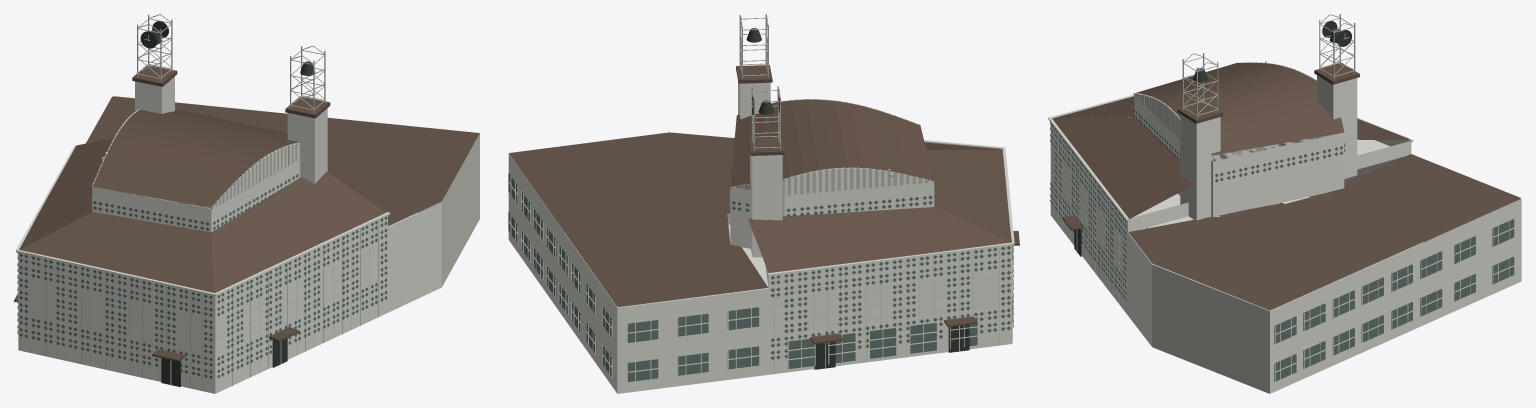
The model's file is podium-mozaiek.glb.
The picture shows the model from 3 angles, left to right: view 1: azimuth 30°, elevation 25°; view 2: azimuth 150°, elevation 25°; view 3: azimuth 270°, elevation 25°; orthographic projection. The views are drawn at different scales.
Visible parts, largest first — view 1: podium-mozaiek; view 2: podium-mozaiek; view 3: podium-mozaiek.
Part boxes in pixels (x1,y1,x2,y2): podium-mozaiek: [14, 14, 479, 393]; podium-mozaiek: [508, 14, 1019, 393]; podium-mozaiek: [1048, 14, 1521, 393].
Bounding box in the file's own units: 45.53 × 22.13 × 39.86.
